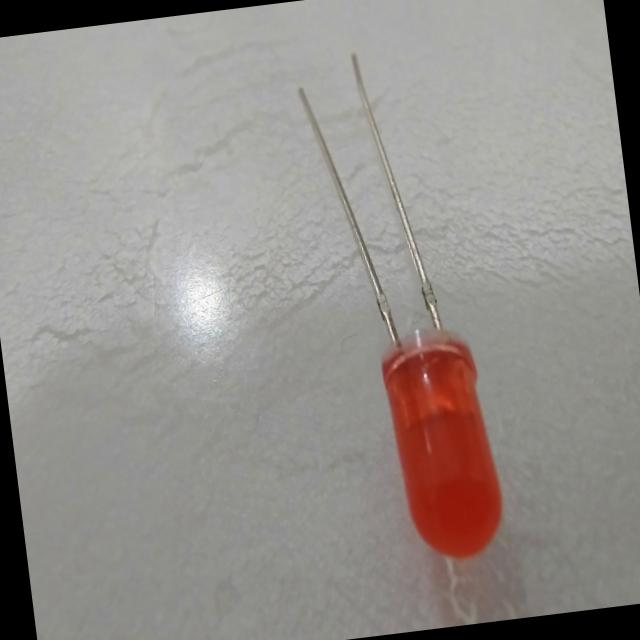red_led: (349, 308, 543, 576)
